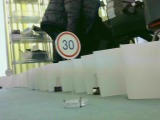speed_30: (55, 31, 81, 59)
